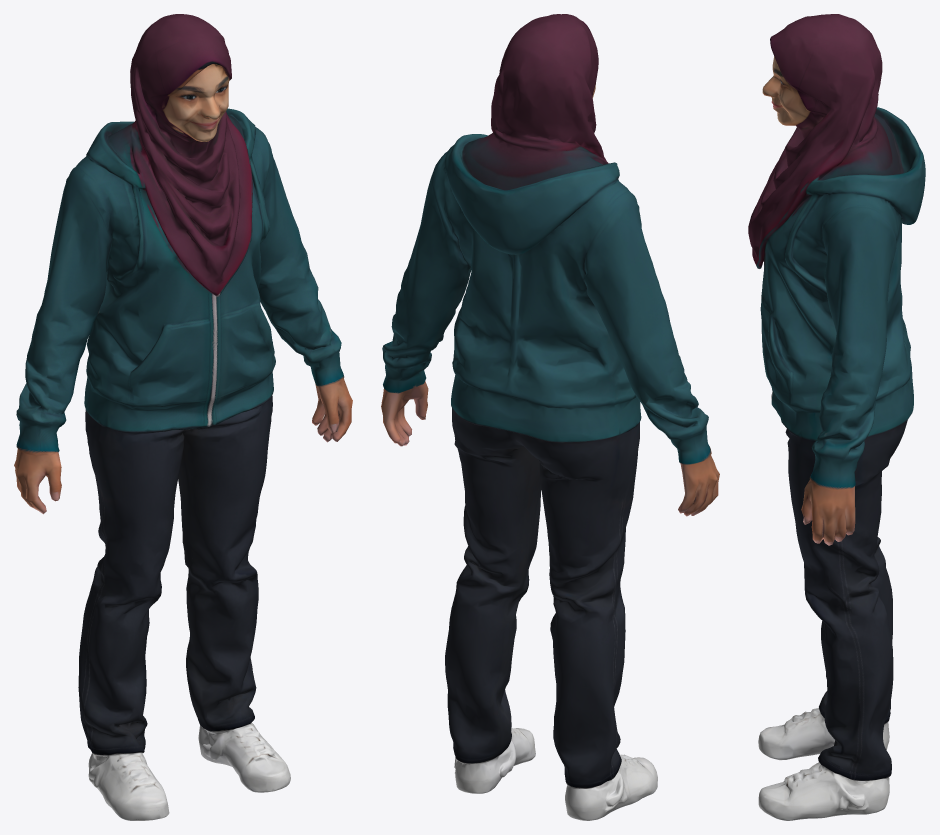
The model's file is amira.glb.
The picture shows the model from 3 angles, left to right: view 1: azimuth 30°, elevation 25°; view 2: azimuth 150°, elevation 25°; view 3: azimuth 270°, elevation 25°; orthographic projection.
Visible parts, largest first — view 1: tripo_node_6c28bb20-c9a5-43d3-ad19-948359105dc1; view 2: tripo_node_6c28bb20-c9a5-43d3-ad19-948359105dc1; view 3: tripo_node_6c28bb20-c9a5-43d3-ad19-948359105dc1.
Boxes of the visible parts, x1,y1,x2,y2 form: tripo_node_6c28bb20-c9a5-43d3-ad19-948359105dc1: (14,14,352,820); tripo_node_6c28bb20-c9a5-43d3-ad19-948359105dc1: (381,14,719,820); tripo_node_6c28bb20-c9a5-43d3-ad19-948359105dc1: (748,14,925,820).
Bounding box in the file's own units: 0.4545 × 1 × 0.2104.
Materials: 1 (1 with a texture image).
